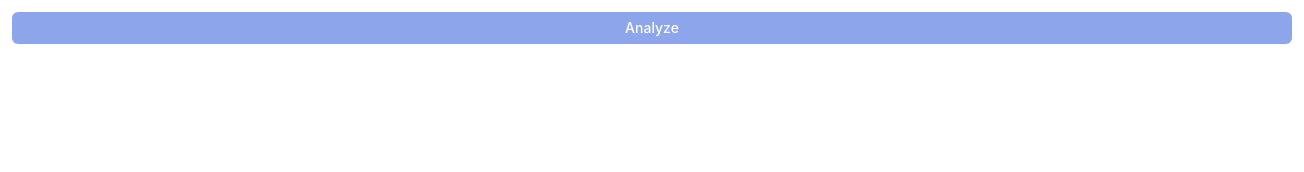
Test: AnalyzeButton › is disabled with a tooltip listing exactly what is missing
The width and height of the screenshot is (1304, 172).
Step 1. Hover over the button "Analyze" → (652, 28), box [12, 12, 1292, 44]
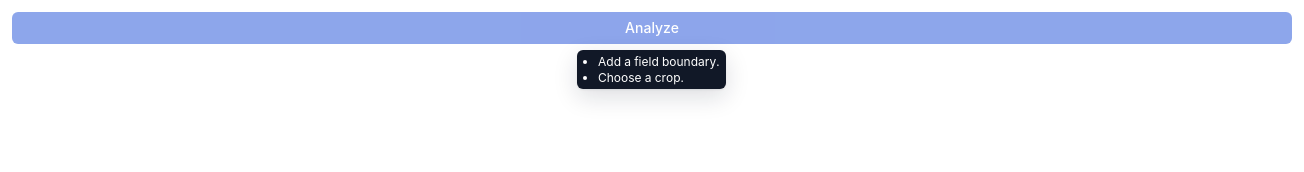
Result: the list item "Add a field boundary." is shown at [598, 54, 720, 70]
Result: the list item "Choose a crop." is shown at [598, 70, 684, 84]
